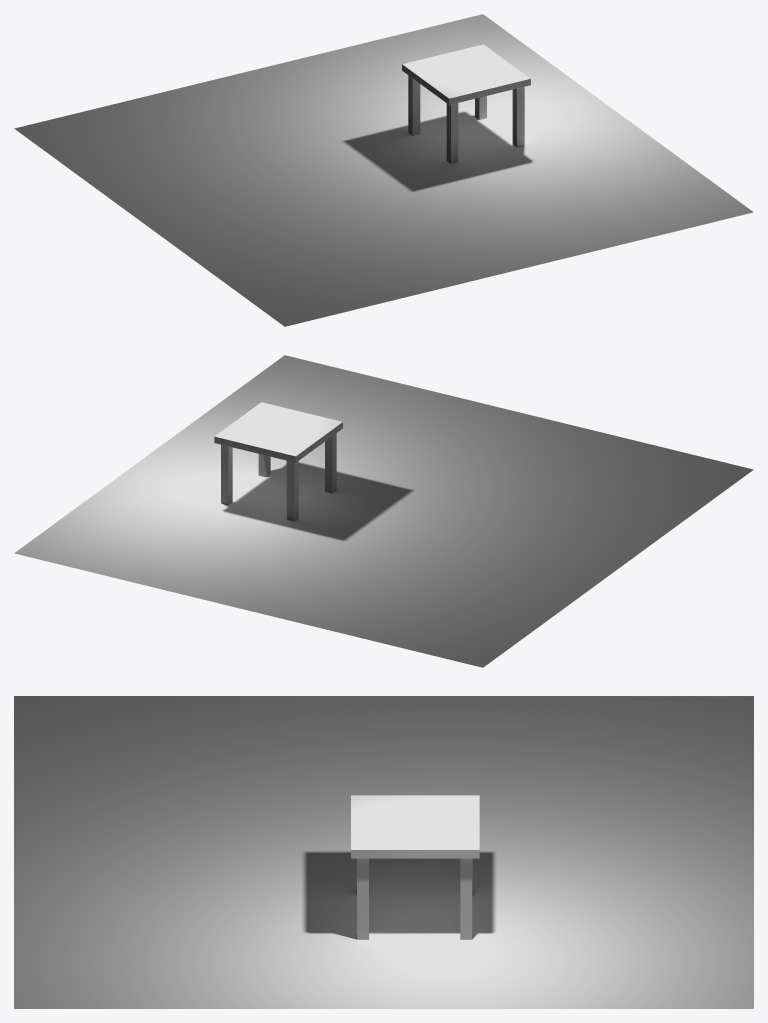
Rendered from table.obj.
3 views of the same model, one above another, from view 1: azimuth 30°, elevation 25°; view 2: azimuth 150°, elevation 25°; view 3: azimuth 270°, elevation 25° (orthographic). The views are drawn at different scales.
Parts seen in each view (by area): view 1: Cube.005; view 2: Cube.005; view 3: Cube.005.
Part boxes in pixels (box(x1,y1,x2,y2)): Cube.005: box(14, 14, 753, 326); Cube.005: box(14, 355, 753, 667); Cube.005: box(14, 696, 753, 1008).
Bounding box in the file's own units: 5.75 × 0.8213 × 5.75.
1 material, 1 textured.
